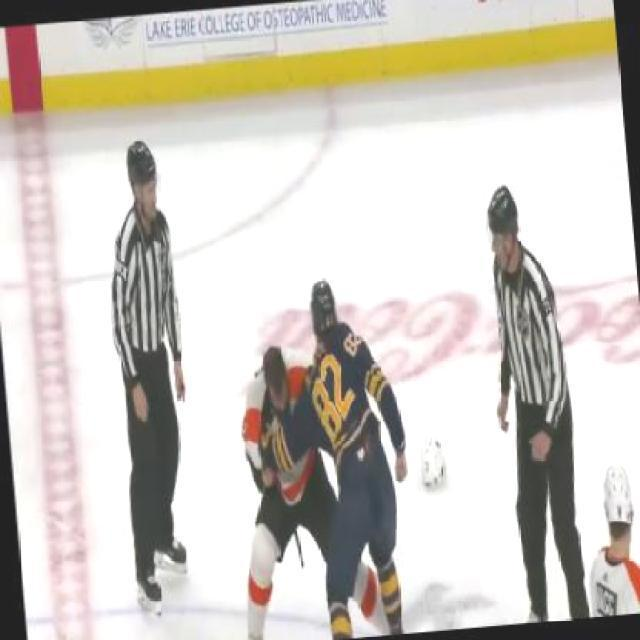fight: (220, 263, 426, 639)
non-fight: (94, 132, 208, 622), (474, 177, 594, 623)
